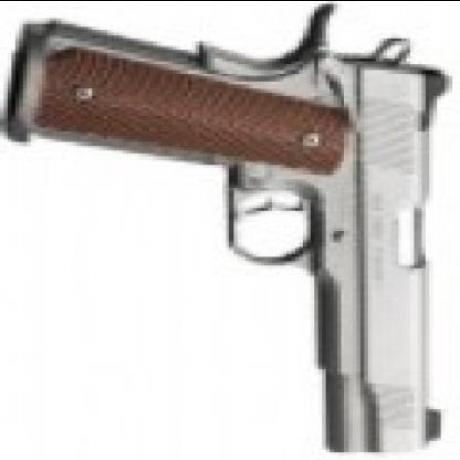weapon: (0, 2, 456, 448)
